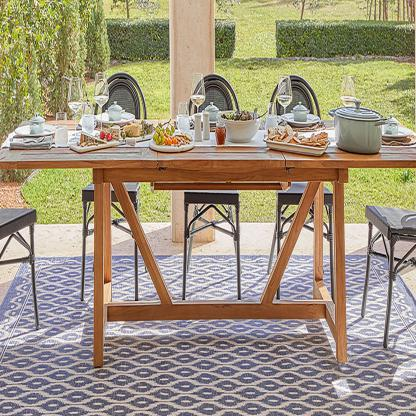table: (0, 110, 415, 371)
